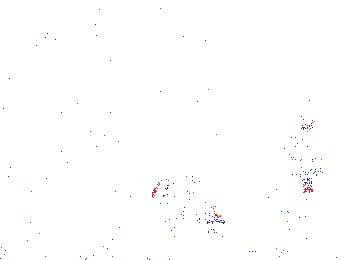flame jellyfish: (151, 172, 226, 227), (273, 172, 346, 226), (281, 118, 332, 192)
